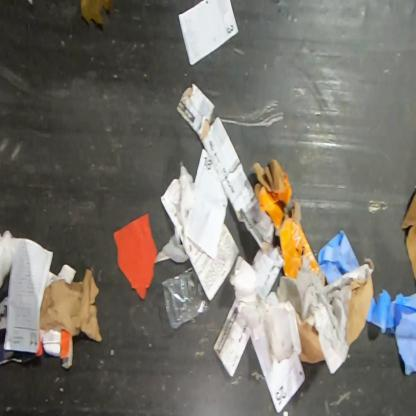cardboard: (276, 255, 374, 375), (250, 159, 326, 286), (37, 268, 102, 342), (401, 190, 415, 290)
rigid_plastic: (161, 267, 209, 330)
